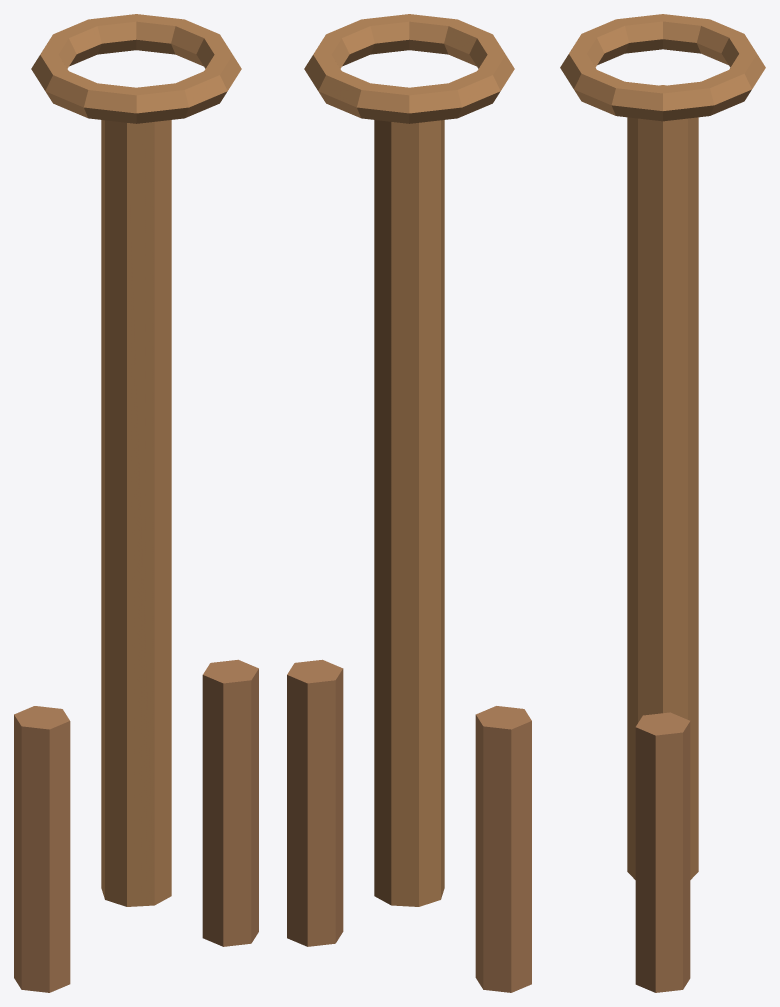
Rendered from anchor.glb.
The picture shows the model from 3 angles, left to right: view 1: azimuth 30°, elevation 25°; view 2: azimuth 150°, elevation 25°; view 3: azimuth 270°, elevation 25°; orthographic projection. The views are drawn at different scales.
Parts seen in each view (by area): view 1: Cylinder, Cylinder.002, Cylinder.001, Torus; view 2: Cylinder, Cylinder.002, Cylinder.001, Torus; view 3: Cylinder, Cylinder.002, Torus.
Boxes of the visible parts, <box> form: Cylinder: <box>101,120,171,906</box>; Cylinder.002: <box>202,659,258,946</box>; Cylinder.001: <box>14,706,70,992</box>; Torus: <box>31,14,241,123</box>; Cylinder: <box>374,120,444,906</box>; Cylinder.002: <box>287,659,343,946</box>; Cylinder.001: <box>475,706,531,992</box>; Torus: <box>304,14,514,123</box>; Cylinder: <box>627,85,698,879</box>; Cylinder.002: <box>635,712,690,992</box>; Torus: <box>560,14,765,121</box>.
Bounding box in the file's own units: 0.3773 × 1.37 × 0.29.
